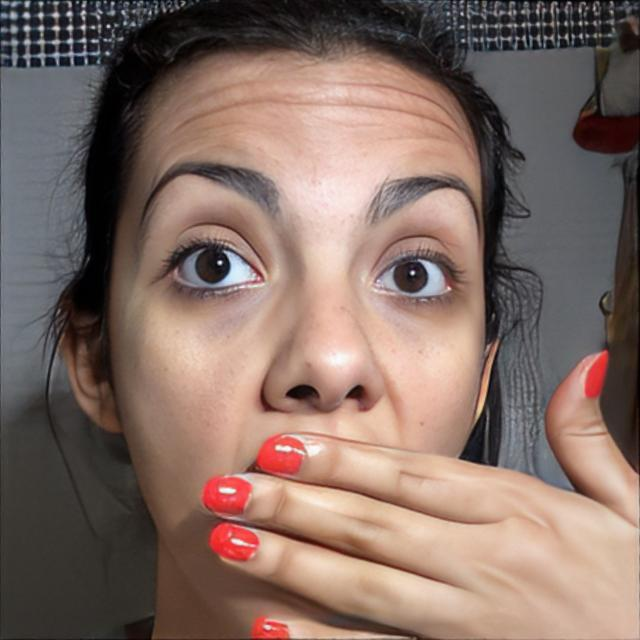surprise: (110, 52, 487, 640)
